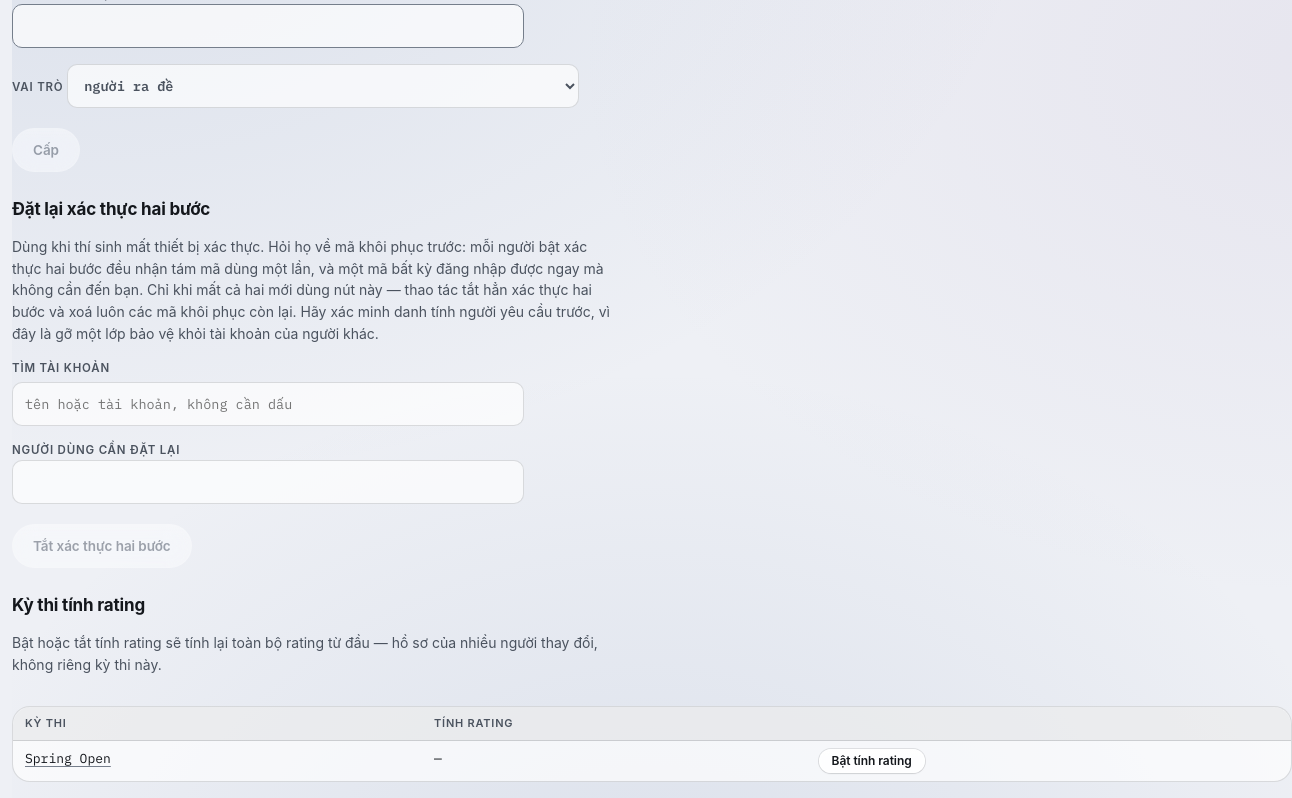
Scenario: AdminPage › rates an unrated contest and shows how far the replay reached
(page scrolled)
Click the button "Bật tính rating".
click(872, 761)  # box top-left (819, 749), bottom-right (925, 773)
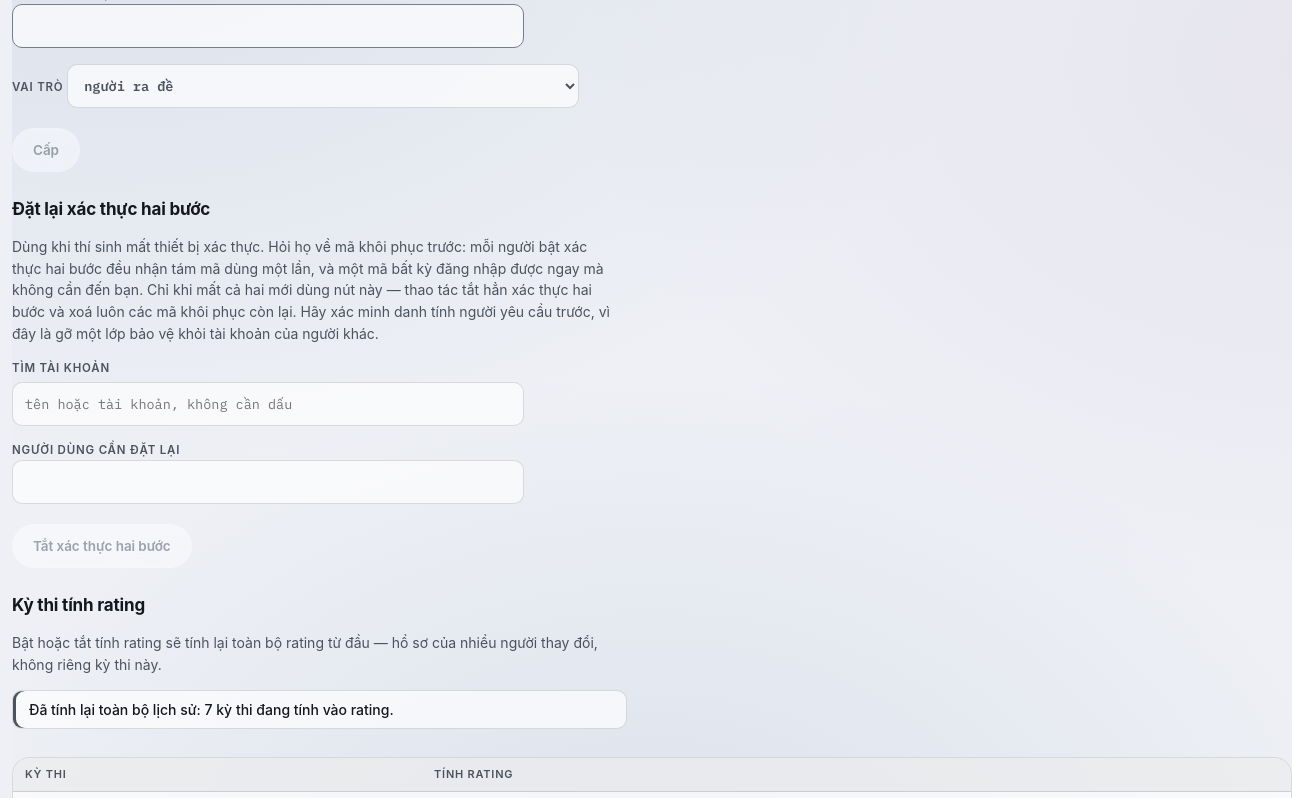
Now the message shows "7 kỳ thi đang tính vào rating", box top-left (29, 701), bottom-right (394, 718)
